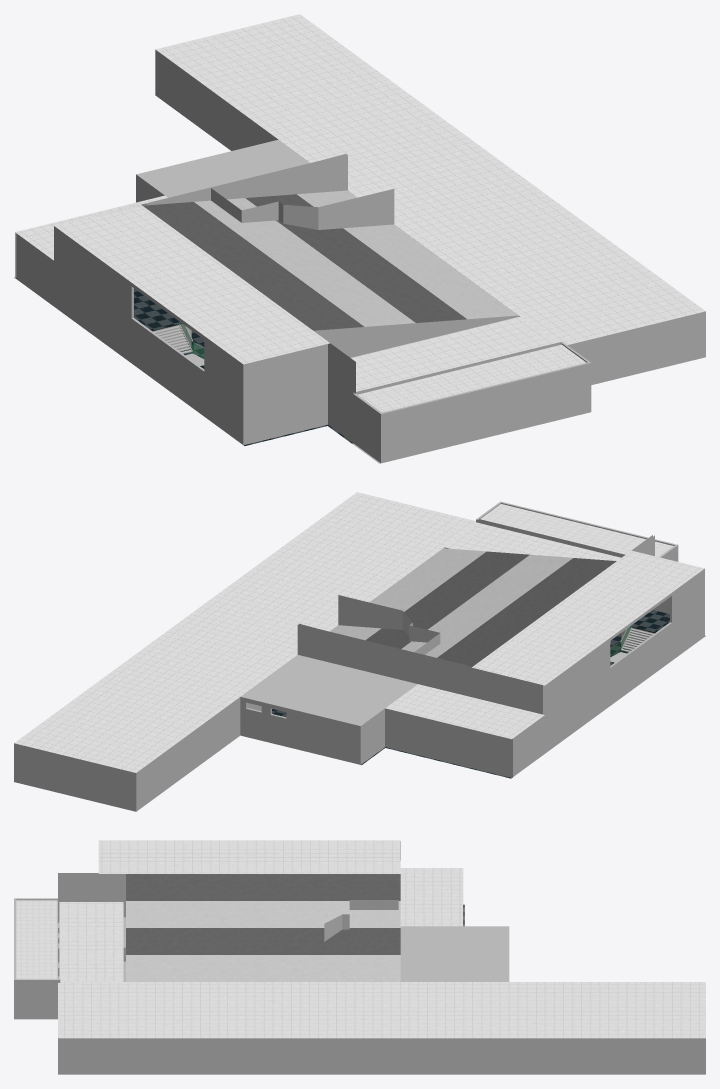
File: PoliceOffice.fbx
3 views of the same model, one above another, from view 1: azimuth 30°, elevation 25°; view 2: azimuth 150°, elevation 25°; view 3: azimuth 270°, elevation 25° (orthographic). The views are drawn at different scales.
Visible parts, largest first — view 1: False_Ceiling_4, Walls, Metal_Roof, False_Ceiling_3, False_Ceiling_5, Walls_58, False_Ceiling_8, Walls_81, False_Ceiling_2, Walls_65, Walls_57, Walls_76 (+4 smaller); view 2: False_Ceiling_4, Metal_Roof, Walls, False_Ceiling_3, Walls_57, False_Ceiling_2, Walls_85, Walls_73, Walls_75, False_Ceiling_1, Walls_81, False_Ceiling_8 (+5 smaller); view 3: False_Ceiling_4, Metal_Roof, Walls_58, False_Ceiling_3, False_Ceiling_2, False_Ceiling_5, False_Ceiling_1, False_Ceiling_8, Walls, Walls_79, Walls_65.
Part boxes in pixels (x1,y1,x2,y2): False_Ceiling_4: (155, 14, 705, 344); Walls: (16, 226, 591, 463); Metal_Roof: (141, 190, 518, 330); False_Ceiling_3: (54, 204, 329, 364); False_Ceiling_5: (351, 316, 555, 391); Walls_58: (567, 311, 705, 384); False_Ceiling_8: (358, 344, 585, 412); Walls_81: (156, 51, 278, 150); False_Ceiling_2: (136, 139, 309, 197); Walls_65: (211, 188, 394, 229); Walls_57: (119, 153, 347, 209); Walls_76: (313, 315, 517, 356); False_Ceiling_4: (14, 492, 477, 772); Metal_Roof: (330, 548, 616, 667); Walls: (476, 501, 704, 776); False_Ceiling_3: (472, 550, 704, 685); Walls_57: (297, 623, 542, 714); False_Ceiling_2: (240, 655, 417, 725); Walls_85: (240, 697, 384, 764); Walls_73: (385, 708, 512, 777); Walls_75: (14, 743, 137, 811); False_Ceiling_1: (385, 684, 544, 739); Walls_81: (137, 697, 261, 810); False_Ceiling_8: (480, 504, 673, 556); False_Ceiling_4: (58, 982, 705, 1038); Metal_Roof: (126, 874, 400, 981); Walls_58: (58, 1038, 703, 1074); False_Ceiling_3: (98, 840, 400, 873); False_Ceiling_2: (400, 926, 509, 981); False_Ceiling_5: (59, 902, 123, 981); False_Ceiling_1: (400, 868, 463, 926); False_Ceiling_8: (16, 900, 57, 979); Walls: (14, 841, 400, 1019); Walls_79: (58, 873, 125, 922); Walls_65: (324, 900, 398, 941).
Size of the model in its own units: 3308 by 599 by 5684.
